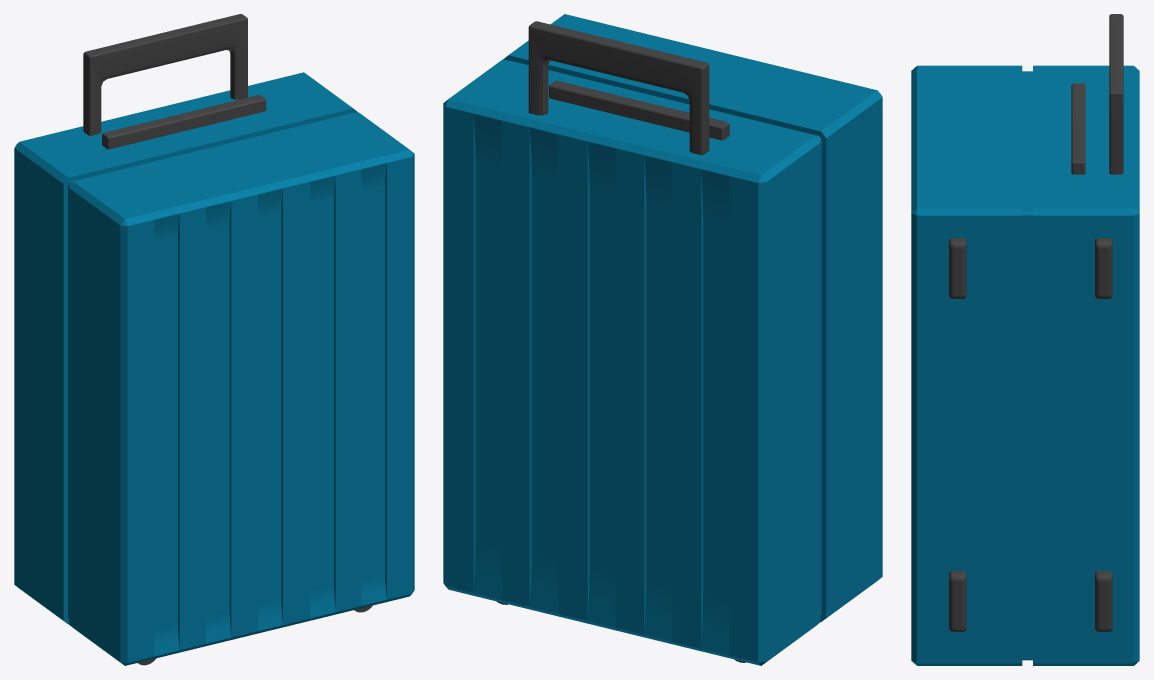
Rendered from Luggage.fbx.
3 renders of one model, left to right at view 1: azimuth 30°, elevation 25°; view 2: azimuth 150°, elevation 25°; view 3: azimuth 270°, elevation 25°, orthographic. The views are drawn at different scales.
Parts seen in each view (by area): view 1: pCube18, pCube25, pCube24; view 2: pCube18, pCube25, pCube24; view 3: pCube18, pCube25, pCube24, pCube22, pCube23, pCube21, pCube20.
Boxes of the visible parts, box(x1,y1,x2,y2) form: pCube18: box(14, 72, 414, 665); pCube25: box(83, 14, 247, 135); pCube24: box(102, 95, 266, 149); pCube18: box(443, 14, 882, 665); pCube25: box(528, 21, 709, 155); pCube24: box(549, 80, 729, 140); pCube18: box(911, 65, 1139, 665); pCube25: box(1109, 14, 1123, 174); pCube24: box(1071, 83, 1085, 174); pCube22: box(1095, 238, 1112, 298); pCube23: box(949, 238, 966, 298); pCube21: box(1095, 571, 1112, 631); pCube20: box(949, 571, 966, 631).
Size of the model in its own units: 2.54 by 4.29 by 1.6.
